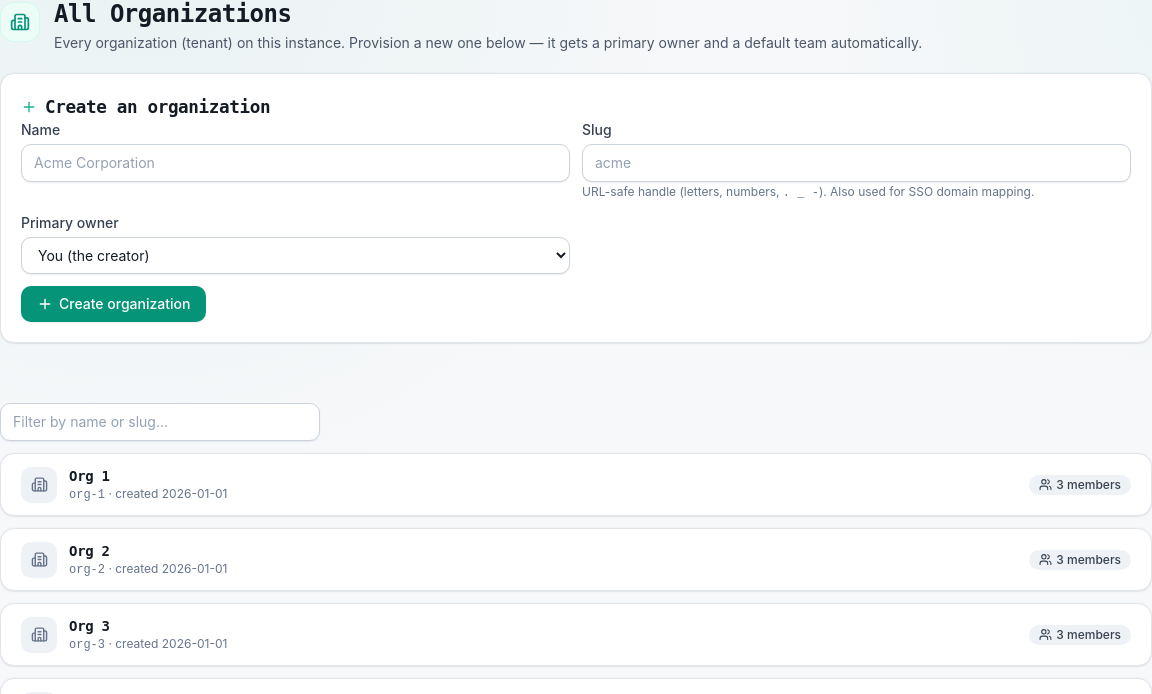
Scenario: AllOrganizationsPage › shows a no-match empty state when the filter matches nothing
This screenshot has width=1152, height=694.
Expected: the heading "Org 1" is shown, left=69, top=468, right=110, bottom=484
In the field named "Filter organizations": (160, 422) left=0, top=403, right=320, bottom=441, type "nonexistent"
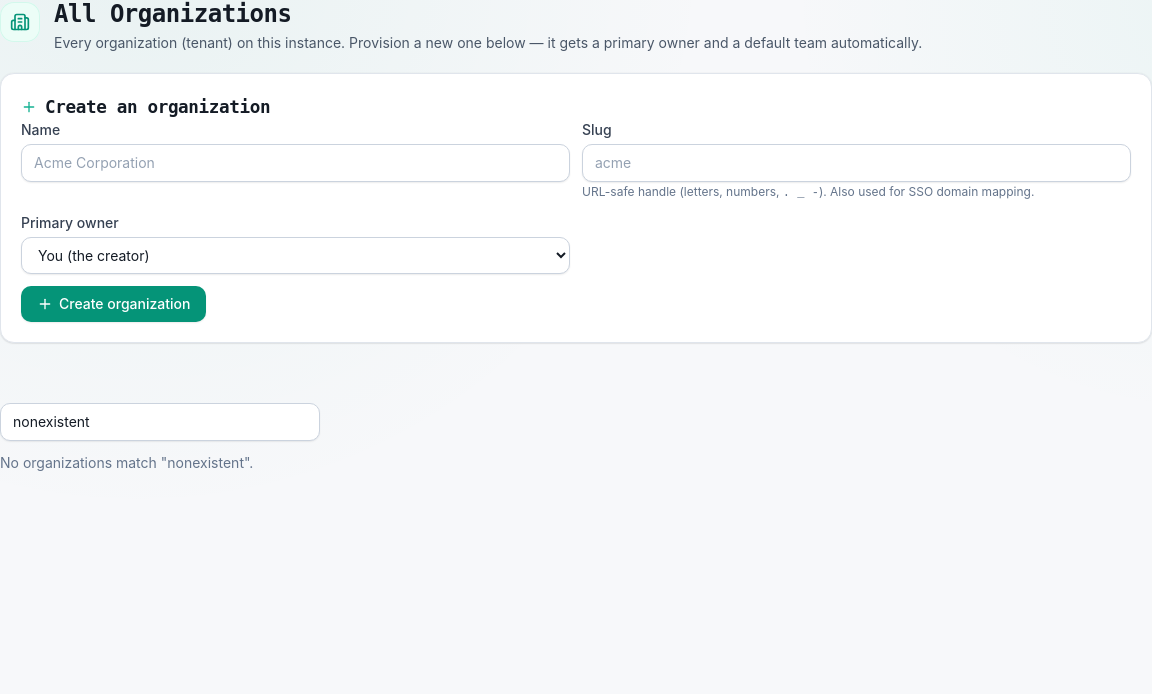
Expected: the text "No organizations match \"nonexistent\"." is shown, left=0, top=454, right=253, bottom=471
